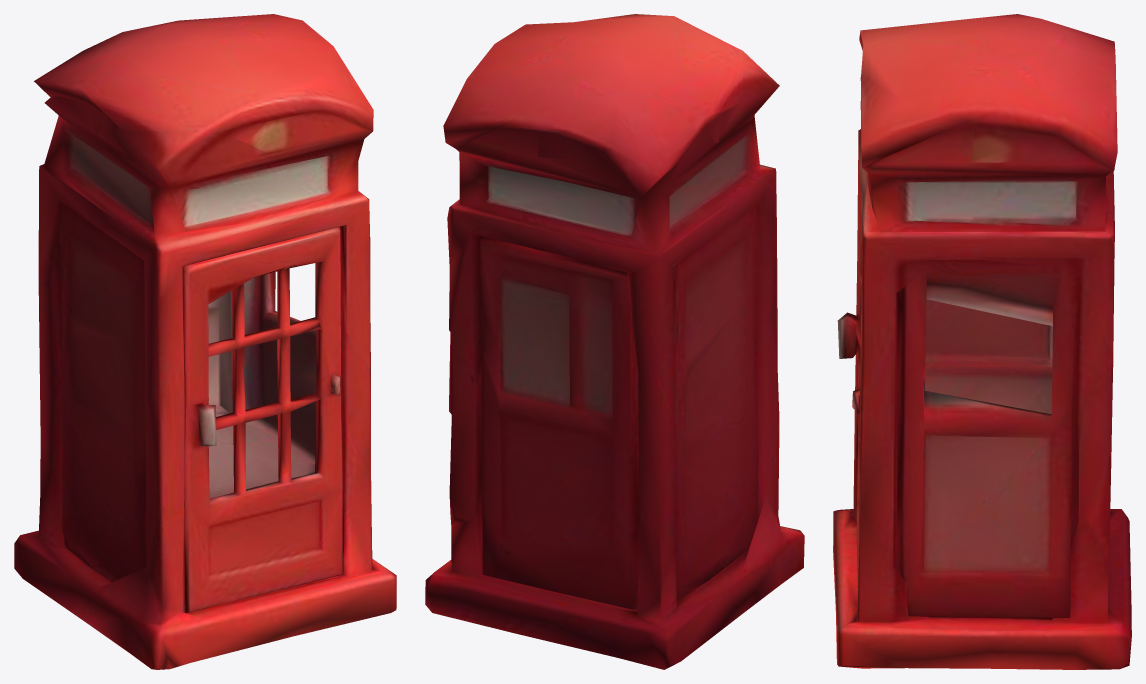
Rendered from phonebooth.glb.
3 renders of one model, left to right at view 1: azimuth 30°, elevation 25°; view 2: azimuth 150°, elevation 25°; view 3: azimuth 270°, elevation 25°, orthographic. The views are drawn at different scales.
Visible parts, largest first — view 1: tripo_node_01a21d84-fe2c-7f3c-b5bf-03c0bf295102; view 2: tripo_node_01a21d84-fe2c-7f3c-b5bf-03c0bf295102; view 3: tripo_node_01a21d84-fe2c-7f3c-b5bf-03c0bf295102.
Part boxes in pixels (x1,y1,x2,y2): tripo_node_01a21d84-fe2c-7f3c-b5bf-03c0bf295102: (14, 14, 396, 669); tripo_node_01a21d84-fe2c-7f3c-b5bf-03c0bf295102: (425, 14, 804, 669); tripo_node_01a21d84-fe2c-7f3c-b5bf-03c0bf295102: (833, 14, 1131, 669).
Size of the model in its own units: 1.13 by 2.4 by 1.13.
1 material, 1 textured.
